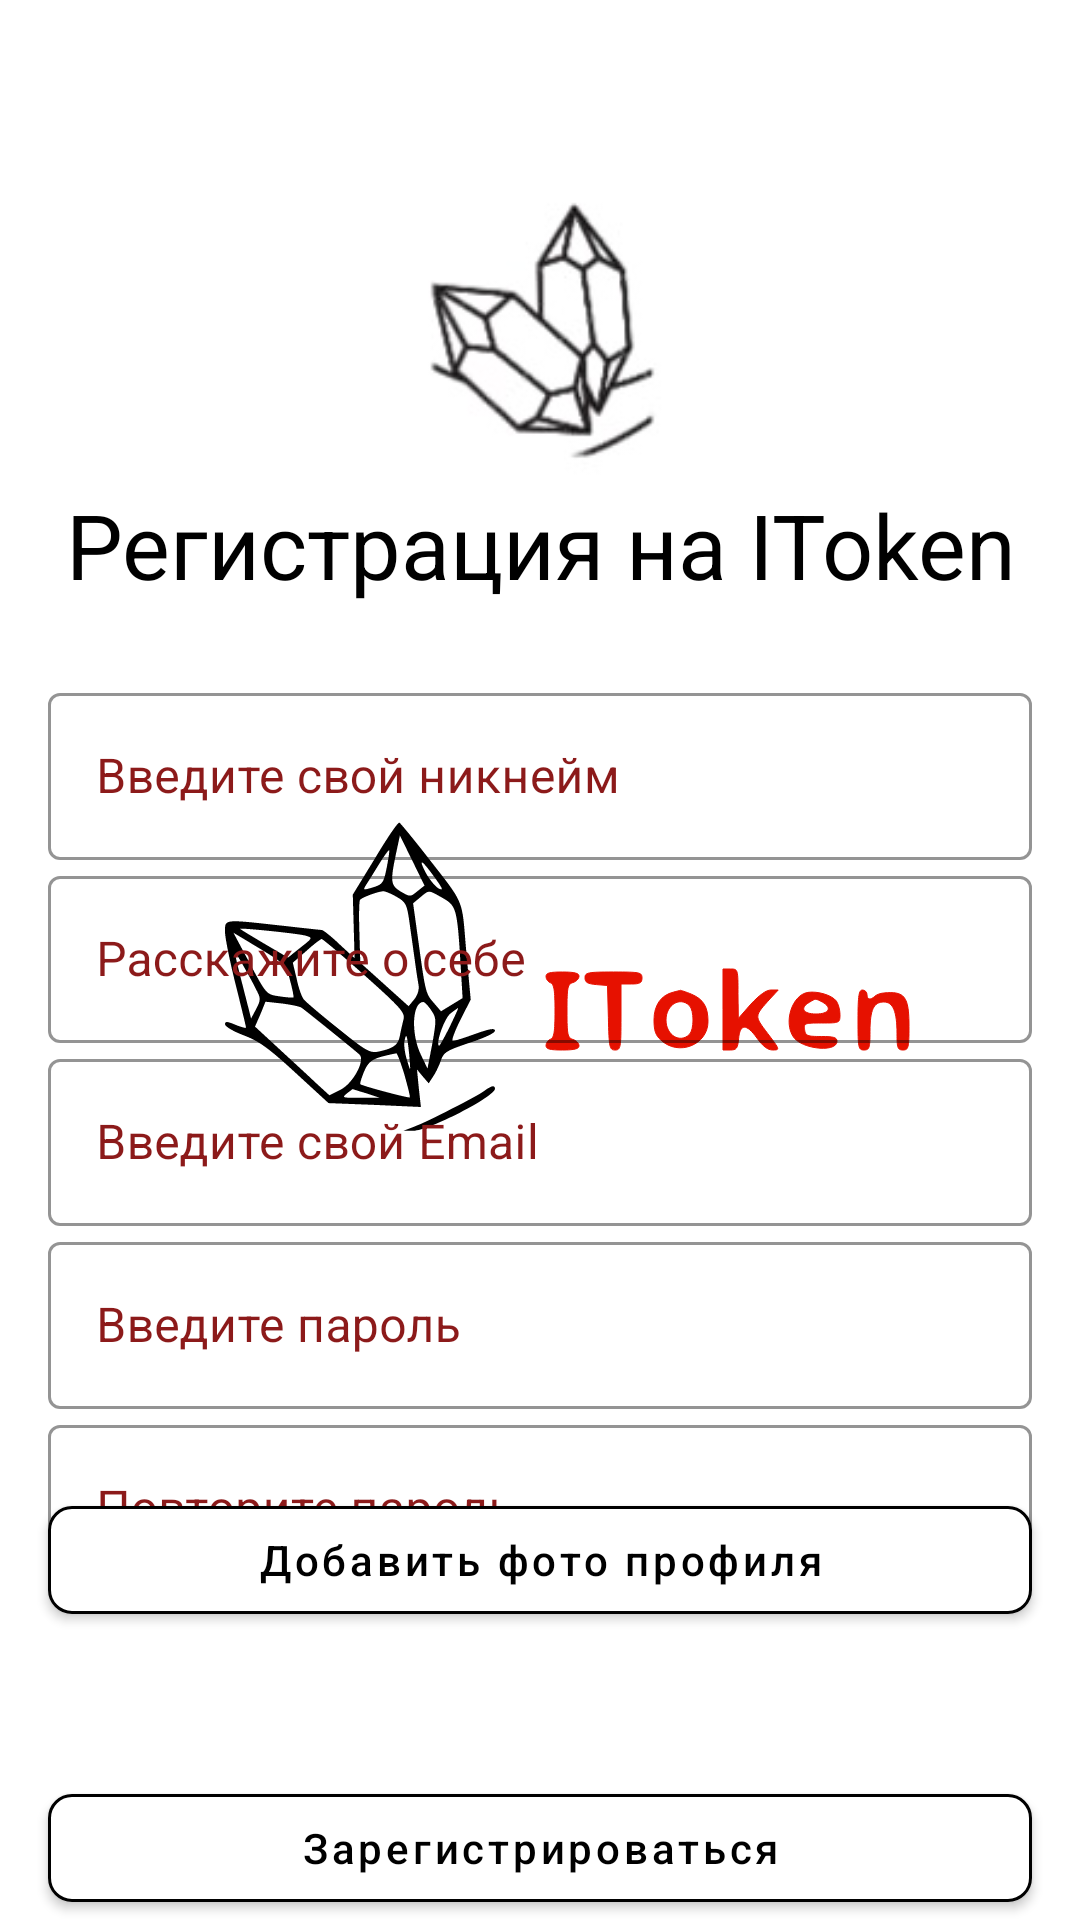

Icon click points for this 1080px×1920px phone screenshot, format (x=x, y=y):
icrystal: (x=542, y=330)
